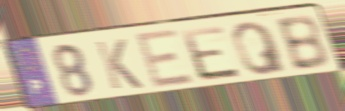8: (52, 42, 95, 99)
B: (273, 13, 332, 74)
E: (132, 27, 198, 93), (178, 24, 245, 83)
K: (93, 37, 146, 92)
Q: (230, 20, 291, 77)
